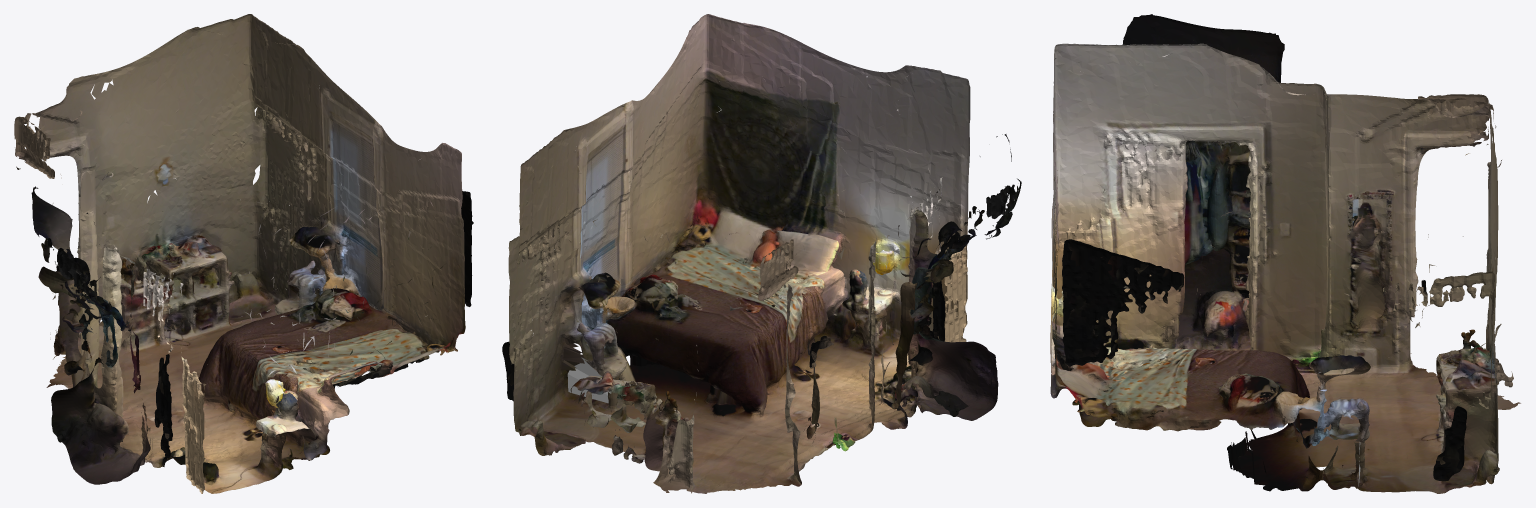
The model's file is PolyCamProj.glb.
3 views of the same model, side by side, from view 1: azimuth 30°, elevation 25°; view 2: azimuth 150°, elevation 25°; view 3: azimuth 270°, elevation 25° (orthographic). The views are drawn at different scales.
Visible parts, largest first — view 1: Mesh_0, Mesh_1; view 2: Mesh_0, Mesh_1, Plane; view 3: Mesh_0, Mesh_1.
Part boxes in pixels (x1=…): Mesh_0: x1=25, y1=14, x2=473, y2=493; Mesh_1: x1=14, y1=27, x2=457, y2=493; Mesh_0: x1=502, y1=14, x2=1018, y2=493; Mesh_1: x1=513, y1=29, x2=1021, y2=492; Plane: x1=567, y1=357, x2=608, y2=403; Mesh_0: x1=1050, y1=43, x2=1499, y2=493; Mesh_1: x1=1050, y1=14, x2=1520, y2=491.
Bounding box in the file's own units: 4.06 × 3.09 × 4.07.
2 materials, 2 textured.
